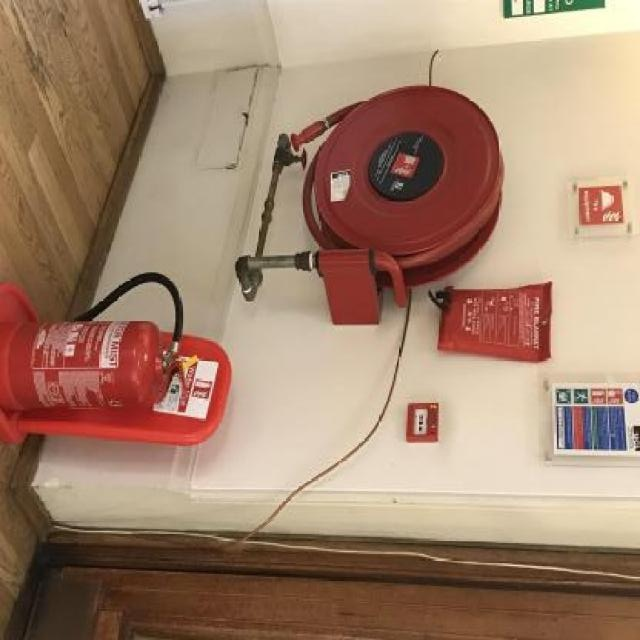fire extinguisher: (0, 271, 188, 409)
